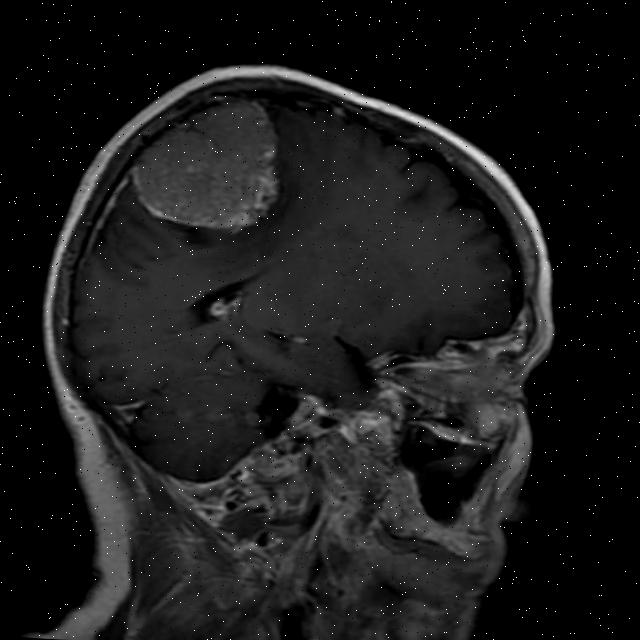Meningioma: (126, 92, 282, 238)
